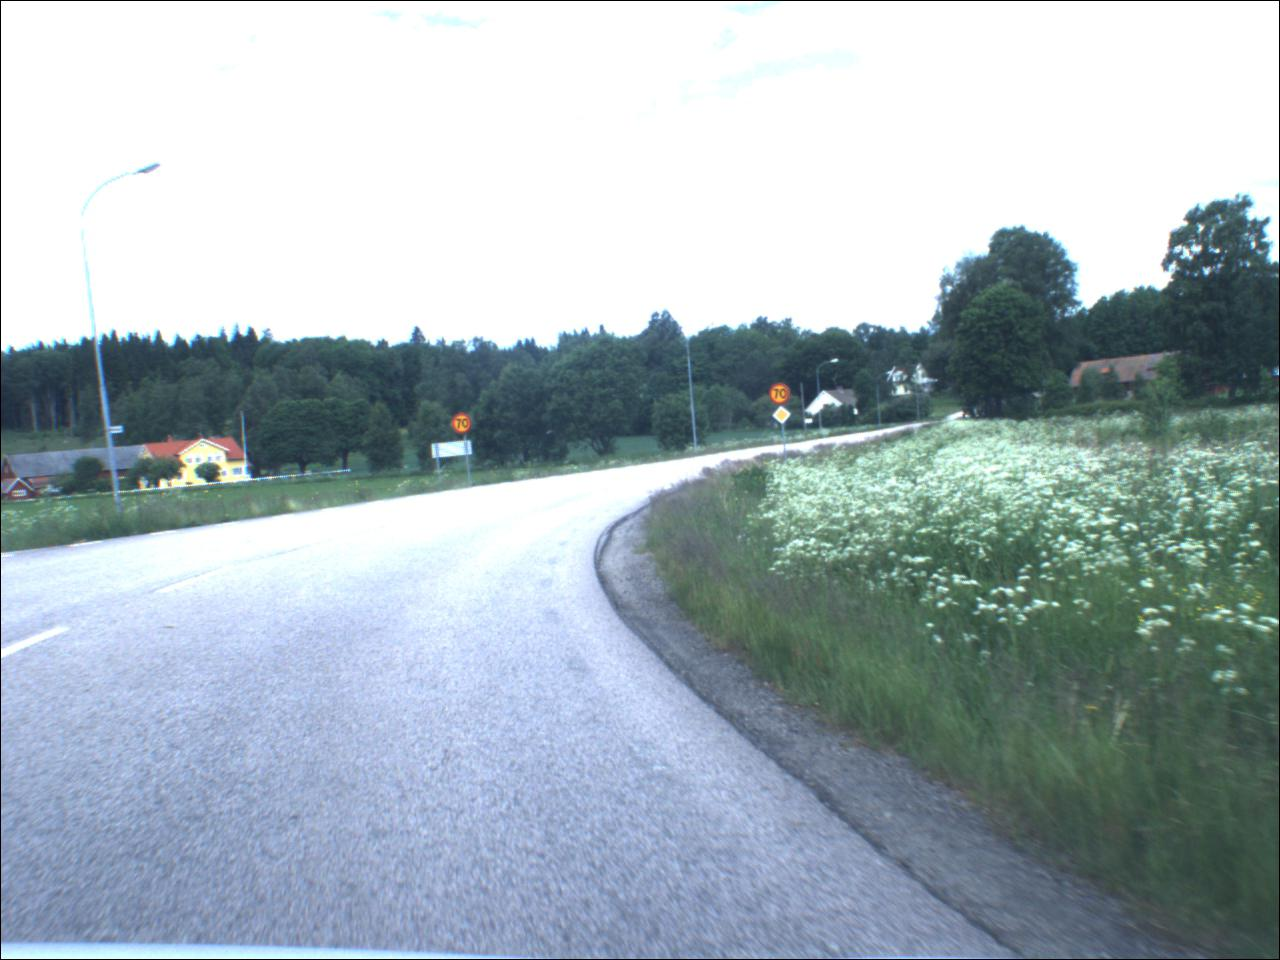70_SIGN: (768, 384, 795, 407), (453, 414, 475, 437)
PRIORITY_ROAD: (773, 407, 795, 427)
